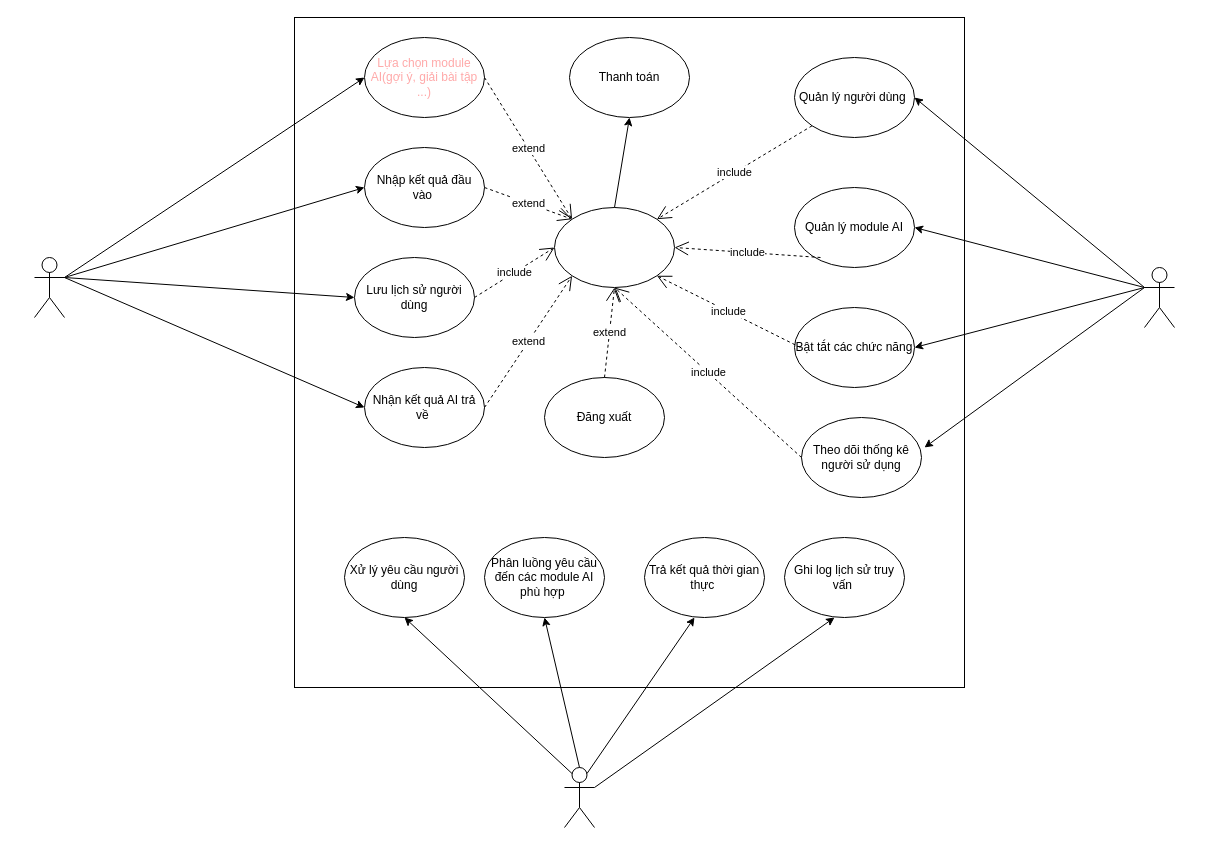
Some shapes in this 1210 by 866 pixel diagram are drawn without their labels. Here are the shapes that lost their labels. From the top down, the box of each, then its label:
(554, 206, 674, 288): Đăng ký/ Đăng nhập
(34, 256, 64, 318): Người dùng
(1144, 266, 1174, 328): Quản trị viên
(564, 766, 594, 828): AI
